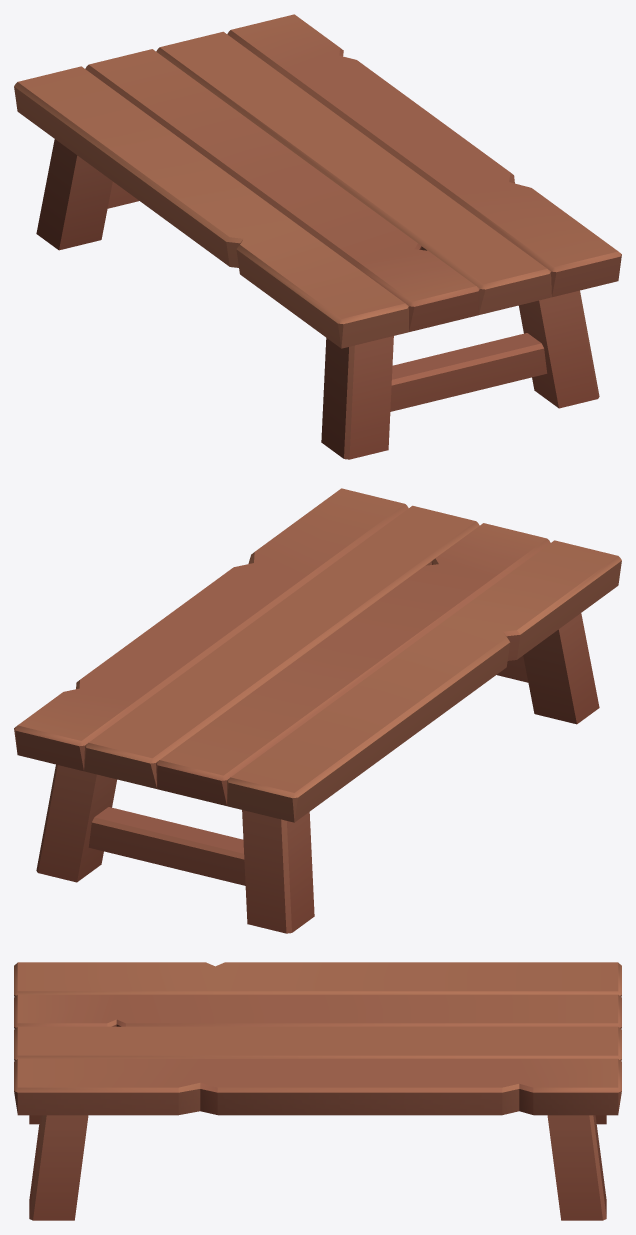
File: table_long.gltf
3 views of the same model, one above another, from view 1: azimuth 30°, elevation 25°; view 2: azimuth 150°, elevation 25°; view 3: azimuth 270°, elevation 25° (orthographic). The views are drawn at different scales.
Parts seen in each view (by area): view 1: table_long; view 2: table_long; view 3: table_long.
Part boxes in pixels (x1,y1,x2,y2): table_long: (14,14,621,459); table_long: (14,488,621,933); table_long: (14,962,621,1220).
Size of the model in its own units: 2 by 1 by 4.
Materials: 1 (1 with a texture image).
